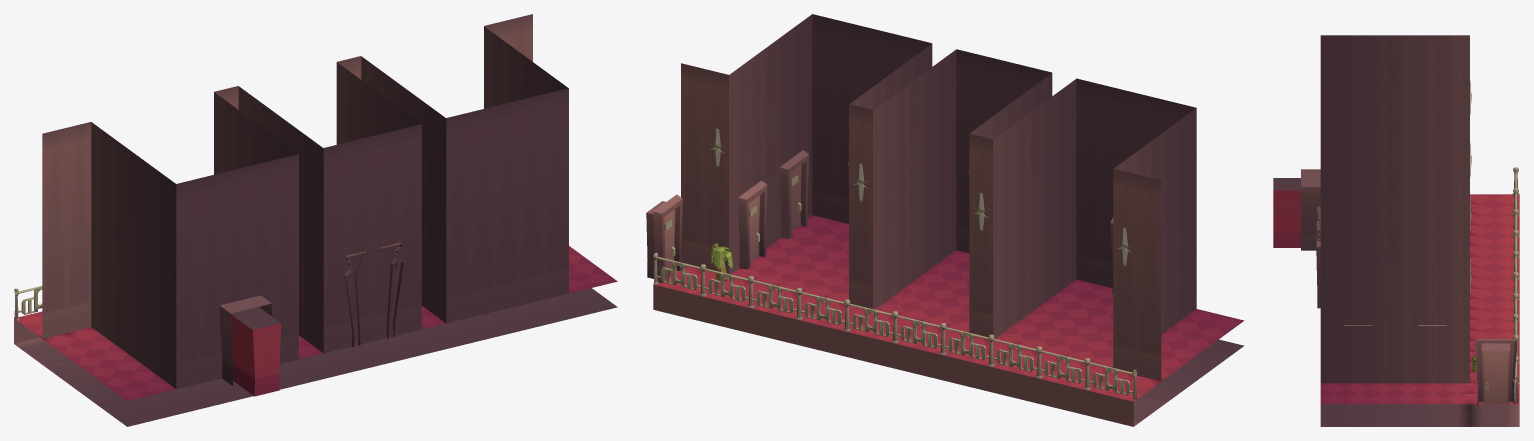
The model's file is SM_HotelRoom-A.fbx.
3 renders of one model, left to right at view 1: azimuth 30°, elevation 25°; view 2: azimuth 150°, elevation 25°; view 3: azimuth 270°, elevation 25°, orthographic. The views are drawn at different scales.
Parts seen in each view (by area): view 1: HotellRoom_A; view 2: HotellRoom_A; view 3: HotellRoom_A.
Part boxes in pixels (x1,y1,x2,y2): HotellRoom_A: (14, 14, 617, 426); HotellRoom_A: (646, 14, 1244, 426); HotellRoom_A: (1273, 35, 1519, 426).
Size of the model in its own units: 990 by 2050 by 900.
